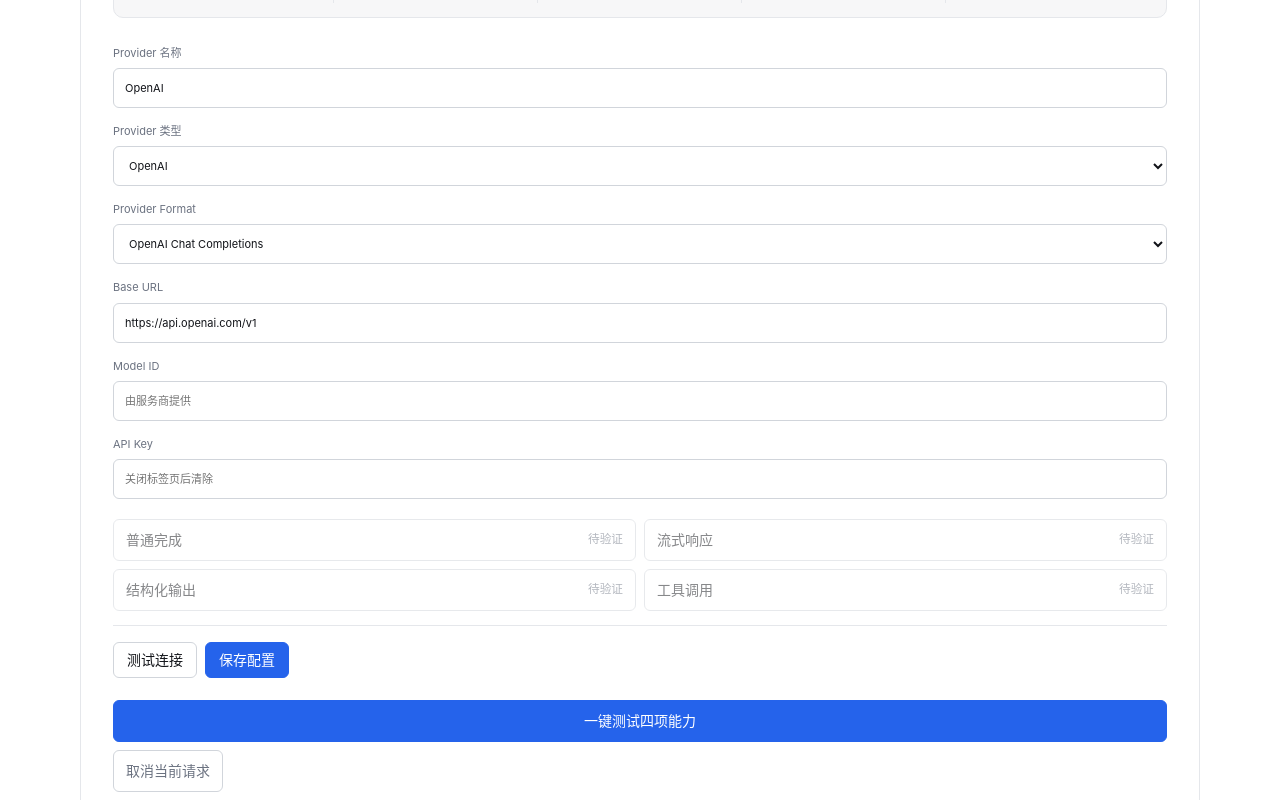
it: ConnectionLab capability status › runs all four probes sequentially from the one-click action
(page scrolled)
Type "test-model" into the field labelled "Model ID". click: (640, 401)
box: [113,381,1167,421]
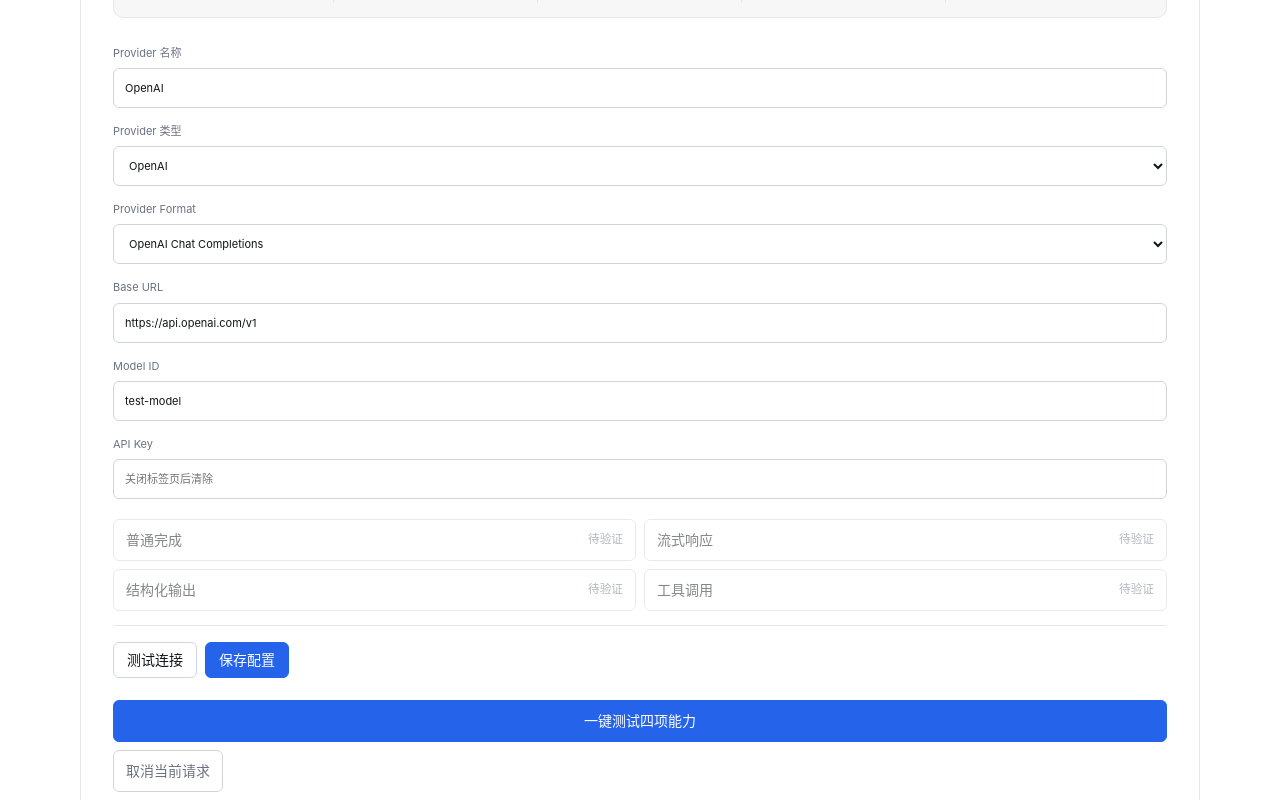
Type "test-only-key" into the password field labelled "API Key". click: (640, 479)
box: [113,459,1167,499]
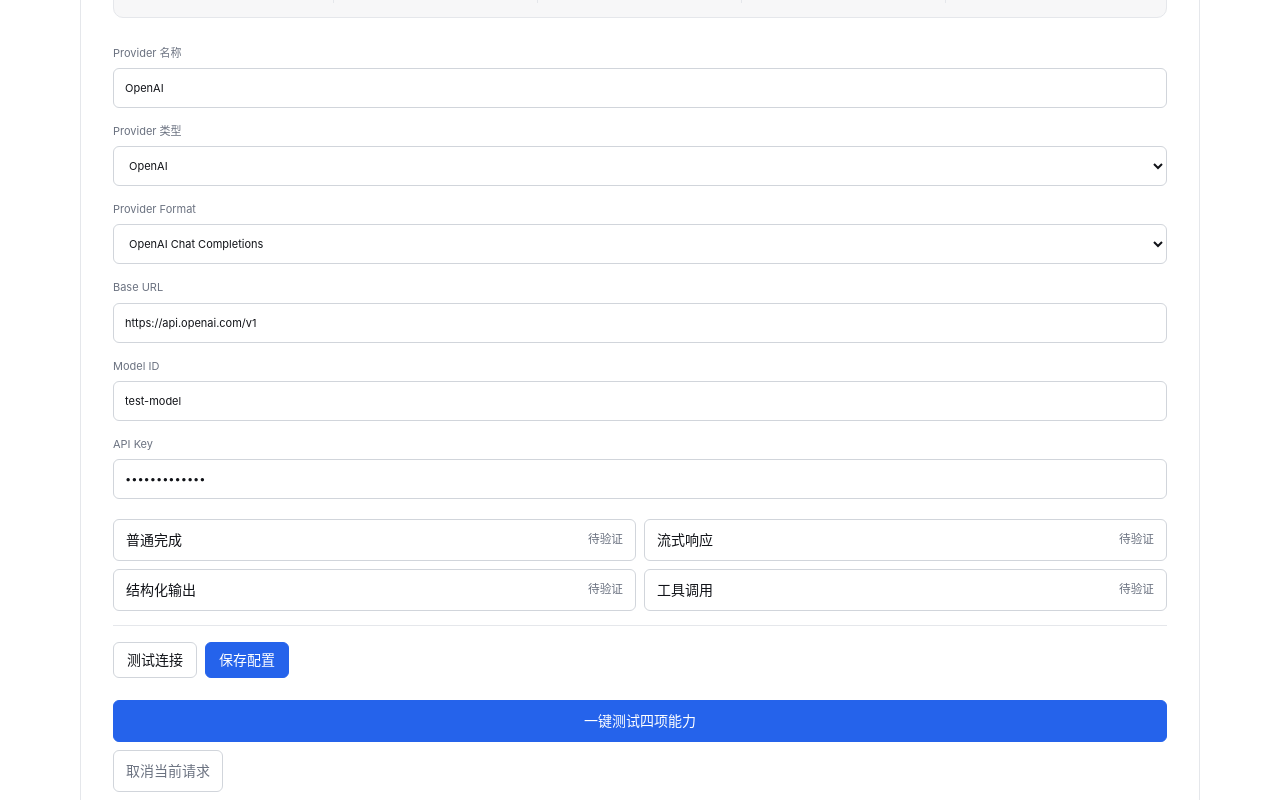
Click the button "一键测试四项能力". click: (640, 721)
box: [113,700,1167,742]
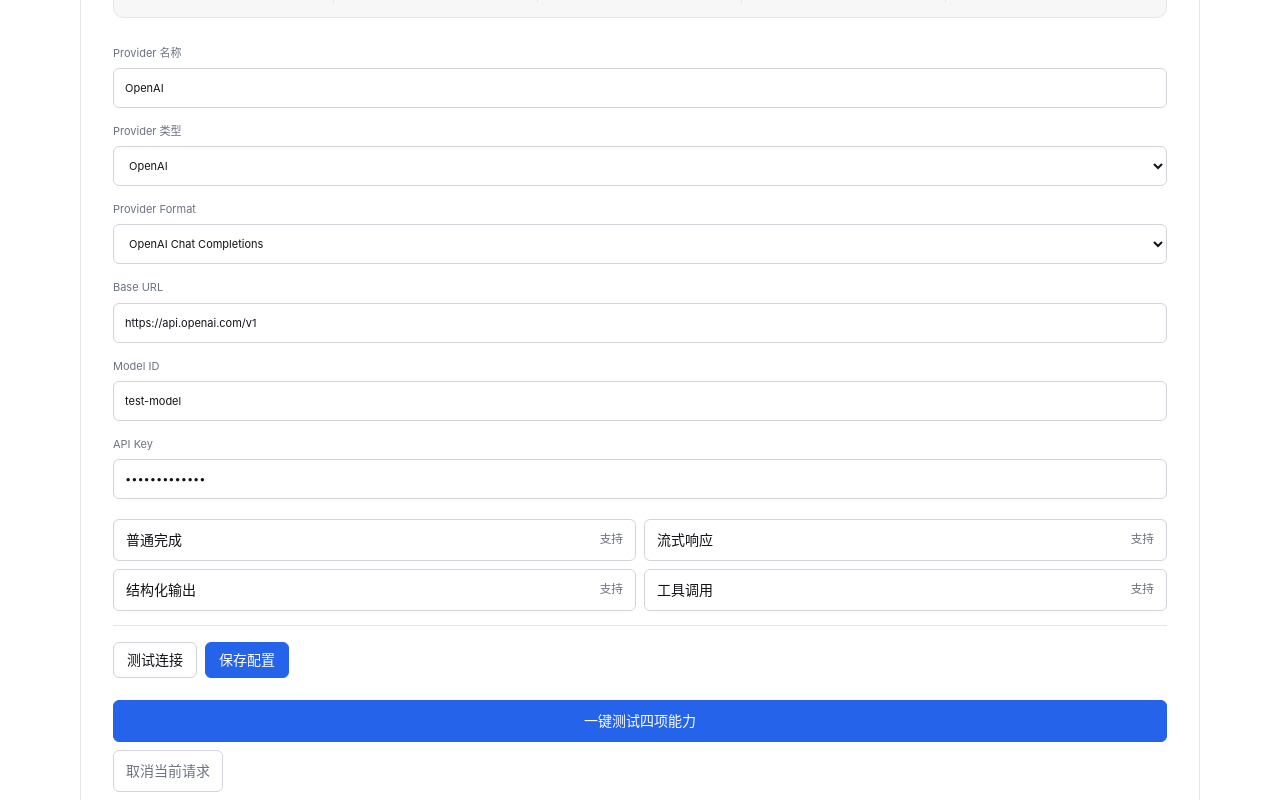
Result: the button "普通完成 支持" is shown at [113,519,636,561]
Result: the button "流式响应 支持" is shown at [644,519,1167,561]
Result: the button "结构化输出 支持" is shown at [113,569,636,611]
